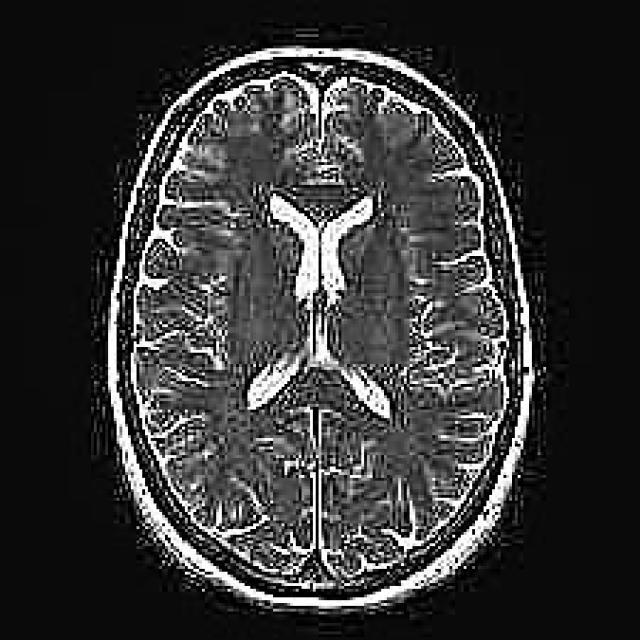notumor: (105, 46, 535, 614)
